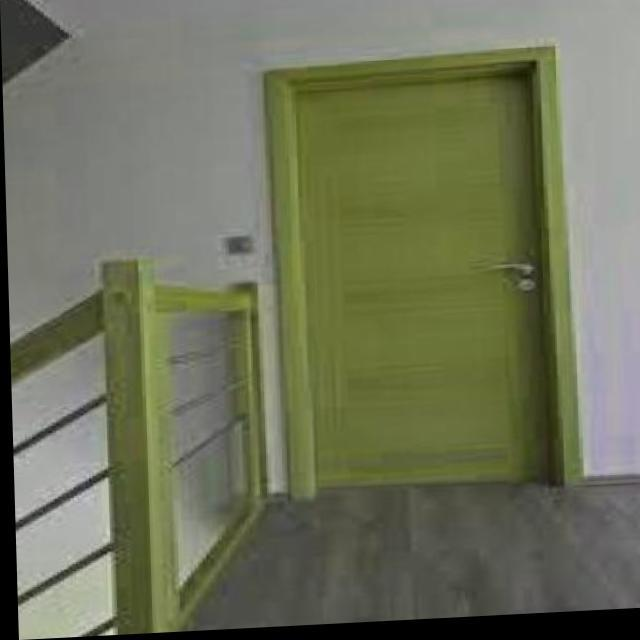door_handle: (472, 257, 542, 287)
